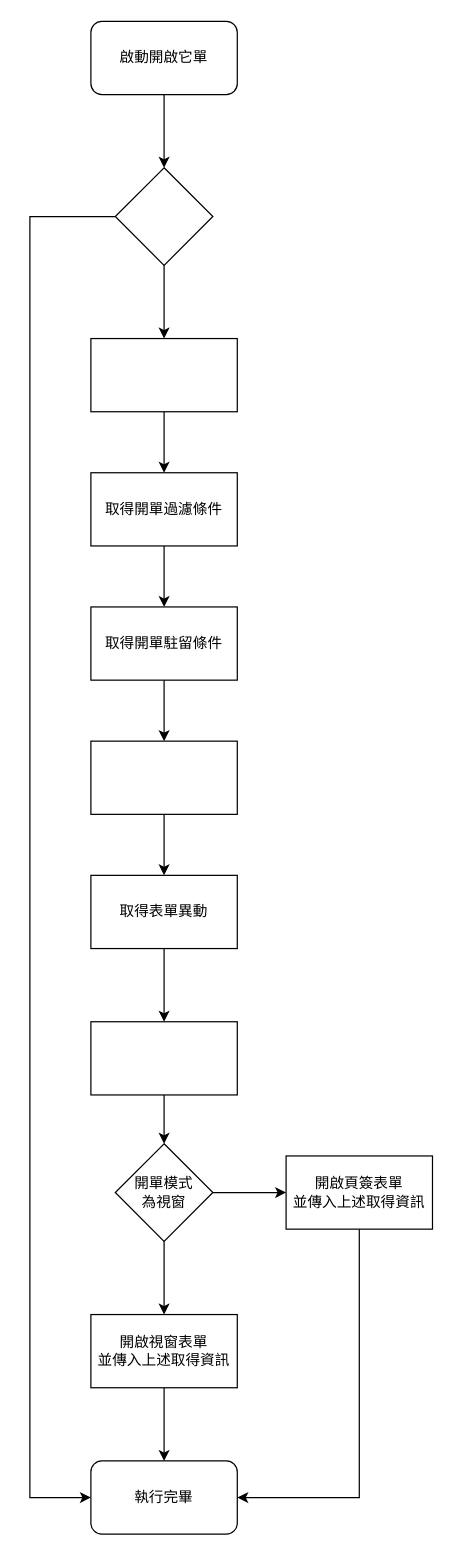
Some shapes in this 454 by 1556 pixel diagram are drawn without their labels. Here are the shapes that lost their labels. From the top down, the box of each, then its label:
(114, 167, 213, 265): 執行條件 成立
(90, 337, 237, 412): 取得開單傳遞參數
(90, 740, 237, 814): 取得進入模式
(90, 1021, 237, 1095): 取得樹根設定
